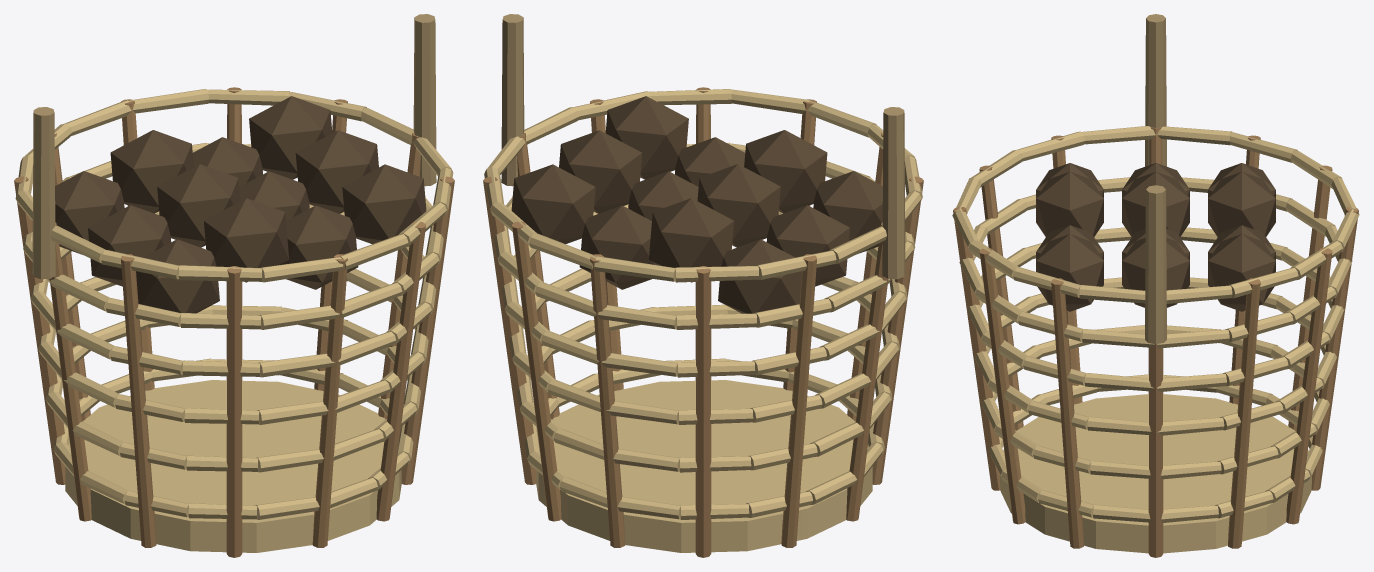
3 renders of one model, left to right at view 1: azimuth 30°, elevation 25°; view 2: azimuth 150°, elevation 25°; view 3: azimuth 270°, elevation 25°, orthographic. The views are drawn at different scales.
Parts seen in each view (by area): view 1: WW-025 Graded charcoal carrying basket batched; view 2: WW-025 Graded charcoal carrying basket batched; view 3: WW-025 Graded charcoal carrying basket batched.
Boxes of the visible parts, x1,y1,x2,y2 form: WW-025 Graded charcoal carrying basket batched: [14, 14, 454, 557]; WW-025 Graded charcoal carrying basket batched: [483, 14, 923, 557]; WW-025 Graded charcoal carrying basket batched: [952, 14, 1359, 557].
Size of the model in its own units: 0.696 by 0.6915 by 0.6635.
